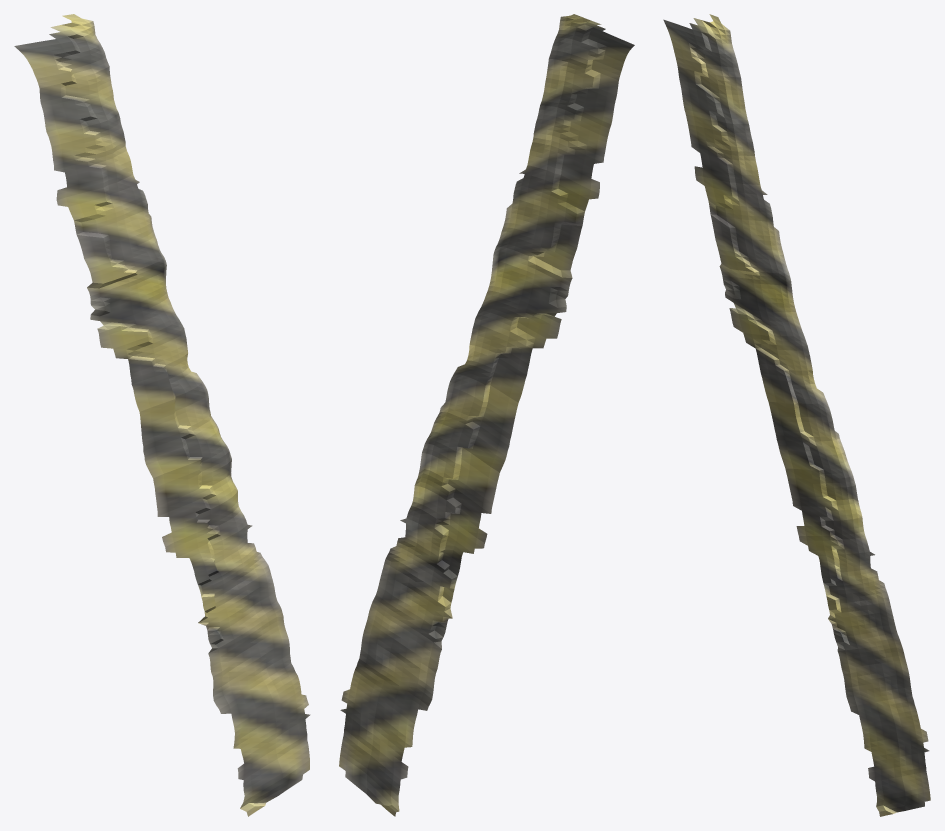
The model's file is entity-floor-marking-29.glb.
The picture shows the model from 3 angles, left to right: view 1: azimuth 30°, elevation 25°; view 2: azimuth 150°, elevation 25°; view 3: azimuth 330°, elevation 25°; orthographic projection. The views are drawn at different scales.
Visible parts, largest first — view 1: geometry_0; view 2: geometry_0; view 3: geometry_0.
Part boxes in pixels (<box>): geometry_0: <box>14,14,310,816</box>; geometry_0: <box>339,14,634,816</box>; geometry_0: <box>663,14,930,816</box>.
Bounding box in the file's own units: 0.6307 × 1.72 × 0.0564.
